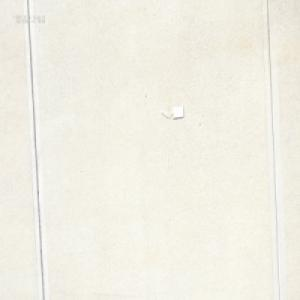LuggageTag: (160, 105, 184, 121)
